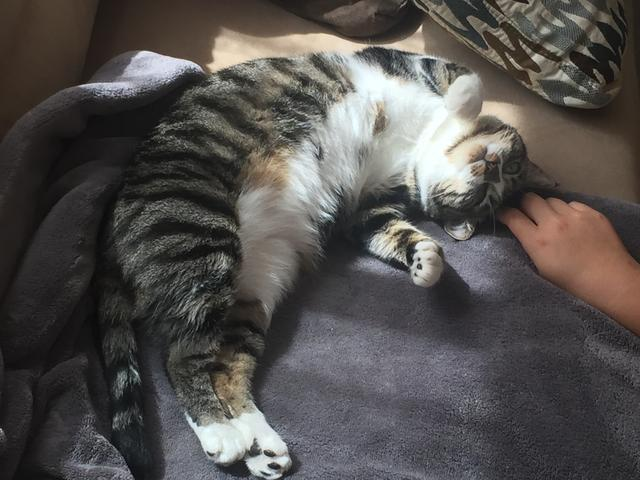playdoh: (96, 47, 563, 480)
